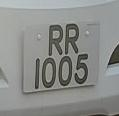0: (40, 56, 58, 91), (57, 55, 74, 89)
1: (31, 55, 42, 93)
5: (72, 52, 90, 87)
R: (46, 22, 66, 60), (63, 21, 82, 57)
